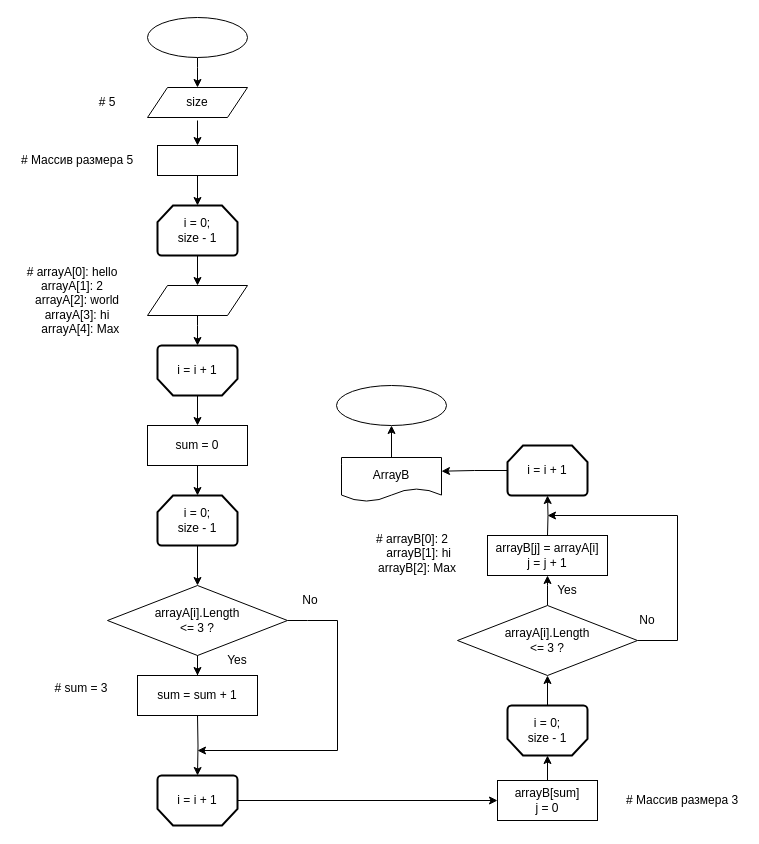
This 759x844 diagram has some shape labels left out. Here are the shapes that lost their labels. From the top down, the box of each, then its label:
(146, 16, 248, 58): START
(156, 144, 238, 176): arrayA[size]
(146, 284, 248, 316): arrayA[i]
(336, 384, 446, 426): FINISH
